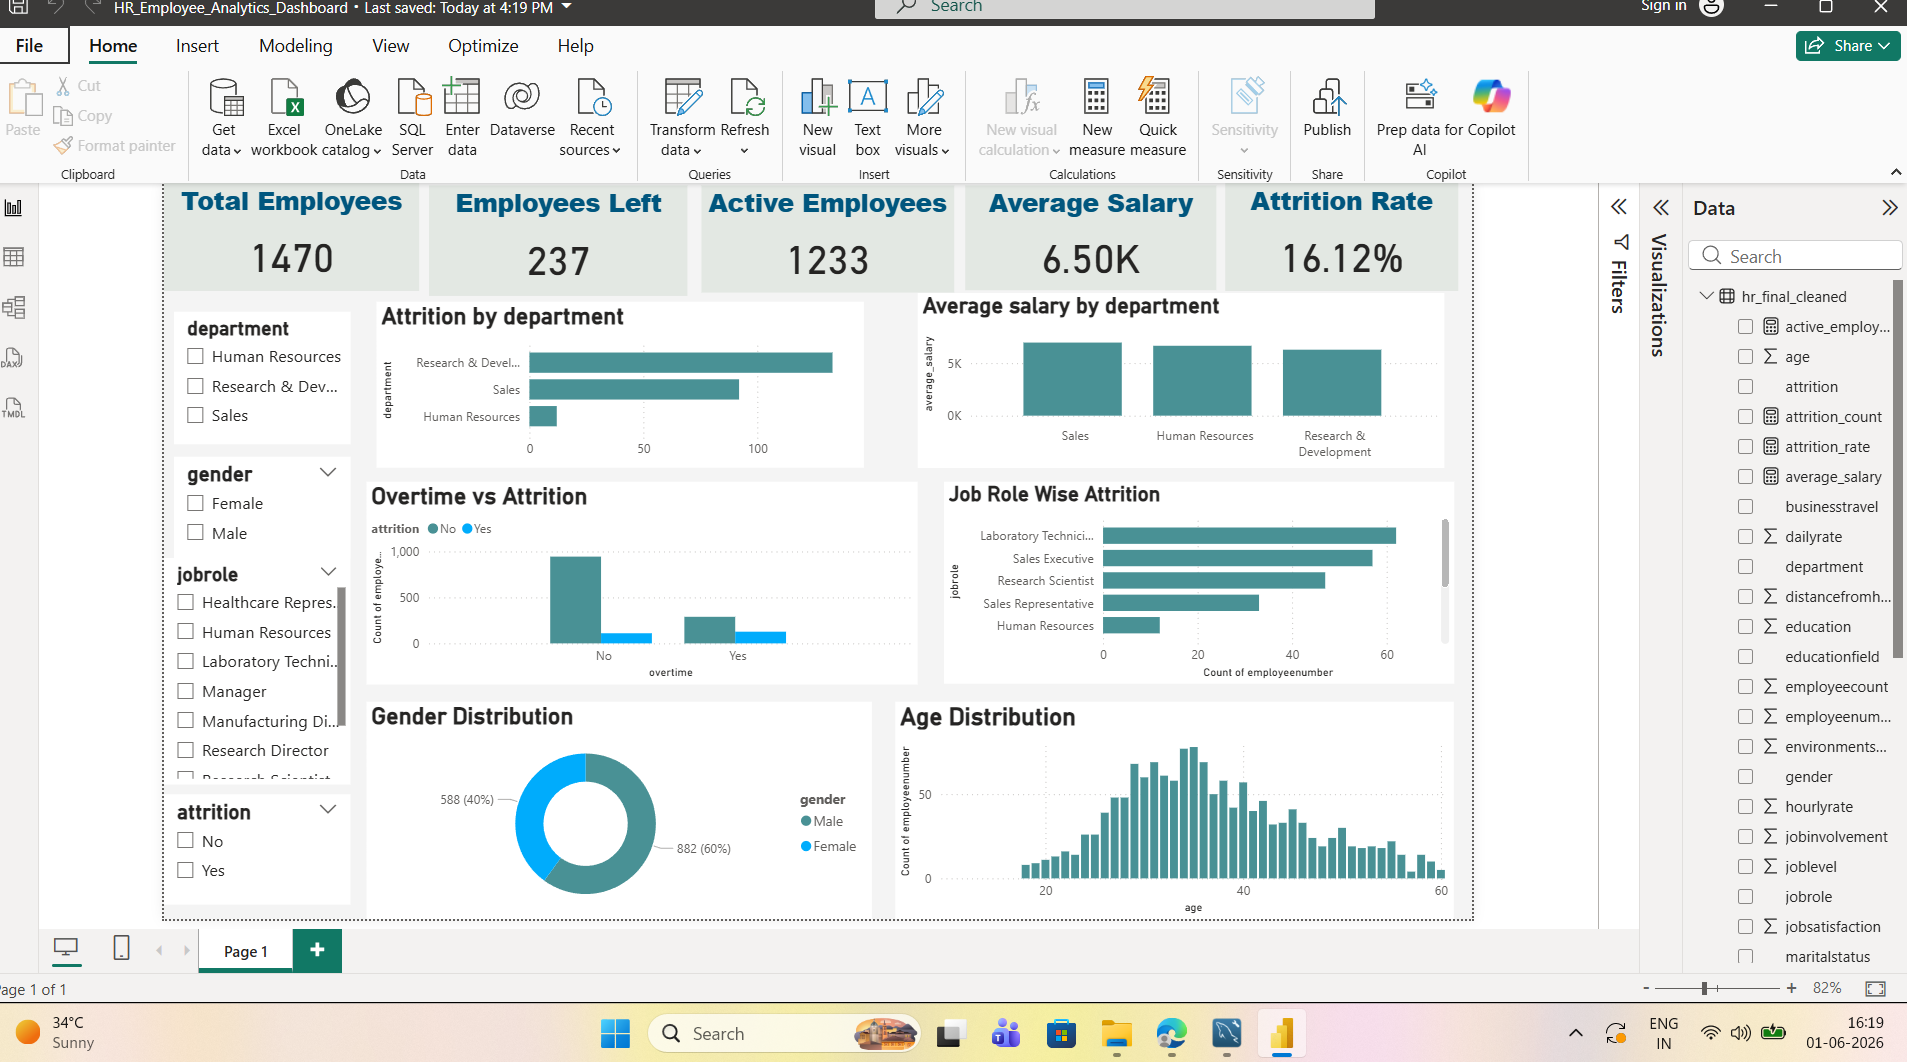

The page's visual inventory and layout, read from the dashboard file:
{"tool":"powerbi","page":{"name":"Page 1","canvas":[1280,720],"ordinal":0},"visuals":[{"type":"card","title":"Total Employees","fields":{"Values":["hr_final_cleaned.total_employees"]},"box":[0,0,249.7,105.7],"z":0},{"type":"card","title":"Employees Left","fields":{"Values":["hr_final_cleaned.attrition_count"]},"box":[259.2,2.4,253.1,107.6],"z":1000},{"type":"card","title":"Active Employees","fields":{"Values":["hr_final_cleaned.active_employees"]},"box":[525.8,2.4,247,105.2],"z":2000},{"type":"card","title":"Average Salary","fields":{"Values":["hr_final_cleaned.average_salary"]},"box":[783.8,2.4,245.8,102.7],"z":3000},{"type":"card","title":"Attrition Rate","fields":{"Values":["hr_final_cleaned.attrition_rate"]},"box":[1038.8,0,227.8,105.7],"z":4000},{"type":"clusteredBarChart","title":"Attrition by department","fields":{"Category":["hr_final_cleaned.department"],"Y":["hr_final_cleaned.attrition_count"]},"box":[207.9,116.2,476.9,162.6],"z":5000},{"type":"clusteredColumnChart","title":"Average salary by department","fields":{"Category":["hr_final_cleaned.department"],"Y":["hr_final_cleaned.average_salary"]},"box":[737.4,107.6,514.8,171.2],"z":6000},{"type":"clusteredColumnChart","title":"Overtime vs Attrition","fields":{"Category":["hr_final_cleaned.overtime"],"Series":["hr_final_cleaned.attrition"],"Y":["CountNonNull(hr_final_cleaned.employeenumber)"]},"box":[198.1,292.3,539.3,198.1],"z":7000},{"type":"clusteredBarChart","title":"Job Role Wise Attrition","fields":{"Category":["hr_final_cleaned.jobrole"],"Y":["CountNonNull(hr_final_cleaned.employeenumber)"]},"box":[763,292.3,499.5,197.6],"z":8000},{"type":"donutChart","title":"Gender Distribution","fields":{"Category":["hr_final_cleaned.gender"],"Y":["CountNonNull(hr_final_cleaned.employeenumber)"]},"box":[198.1,507.5,494,212.8],"z":9000},{"type":"clusteredColumnChart","title":"Age Distribution","fields":{"Y":["CountNonNull(hr_final_cleaned.employeenumber)"],"Category":["hr_final_cleaned.age"]},"box":[715.4,507.5,546.6,212.8],"z":10000},{"type":"slicer","fields":{"Values":["hr_final_cleaned.department"]},"box":[9.8,126,172.4,129.6],"z":11000},{"type":"slicer","fields":{"Values":["hr_final_cleaned.gender"]},"box":[9.8,267.8,172.4,99],"z":12000},{"type":"slicer","fields":{"Values":["hr_final_cleaned.jobrole"]},"box":[0,366.8,182.2,221.3],"z":13000},{"type":"slicer","fields":{"Values":["hr_final_cleaned.attrition"]},"box":[0,598,182.2,107.6],"z":14000}]}

Visuals, with their boxes on the page's 1280x720 design canvas (x1, y1, x2, y2). These are canvas units, not pixel positions in the 1907x1062 screenshot, which may show the page scaled, cropped or inside an application window:
"Total Employees" card: {"x1": 0, "y1": 0, "x2": 250, "y2": 106}
"Employees Left" card: {"x1": 259, "y1": 2, "x2": 512, "y2": 110}
"Active Employees" card: {"x1": 526, "y1": 2, "x2": 773, "y2": 108}
"Average Salary" card: {"x1": 784, "y1": 2, "x2": 1030, "y2": 105}
"Attrition Rate" card: {"x1": 1039, "y1": 0, "x2": 1267, "y2": 106}
"Attrition by department" clusteredBarChart: {"x1": 208, "y1": 116, "x2": 685, "y2": 279}
"Average salary by department" clusteredColumnChart: {"x1": 737, "y1": 108, "x2": 1252, "y2": 279}
"Overtime vs Attrition" clusteredColumnChart: {"x1": 198, "y1": 292, "x2": 737, "y2": 490}
"Job Role Wise Attrition" clusteredBarChart: {"x1": 763, "y1": 292, "x2": 1262, "y2": 490}
"Gender Distribution" donutChart: {"x1": 198, "y1": 508, "x2": 692, "y2": 720}
"Age Distribution" clusteredColumnChart: {"x1": 715, "y1": 508, "x2": 1262, "y2": 720}
slicer - hr_final_cleaned.department: {"x1": 10, "y1": 126, "x2": 182, "y2": 256}
slicer - hr_final_cleaned.gender: {"x1": 10, "y1": 268, "x2": 182, "y2": 367}
slicer - hr_final_cleaned.jobrole: {"x1": 0, "y1": 367, "x2": 182, "y2": 588}
slicer - hr_final_cleaned.attrition: {"x1": 0, "y1": 598, "x2": 182, "y2": 706}
